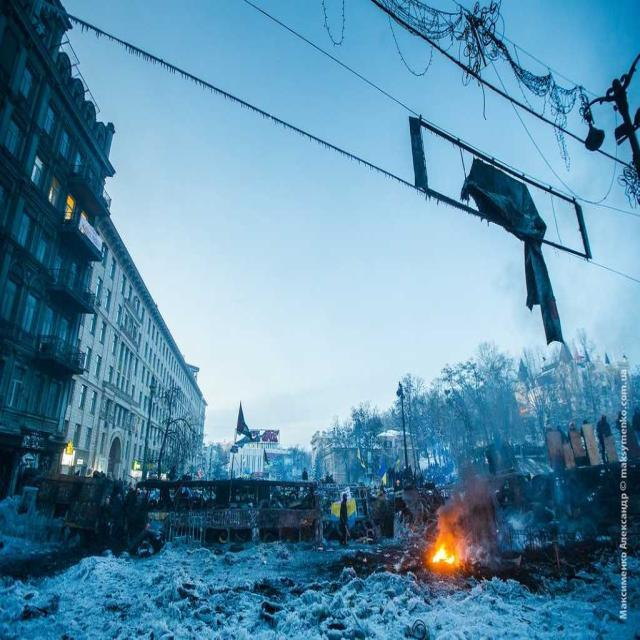Fire: (433, 532, 459, 562)
